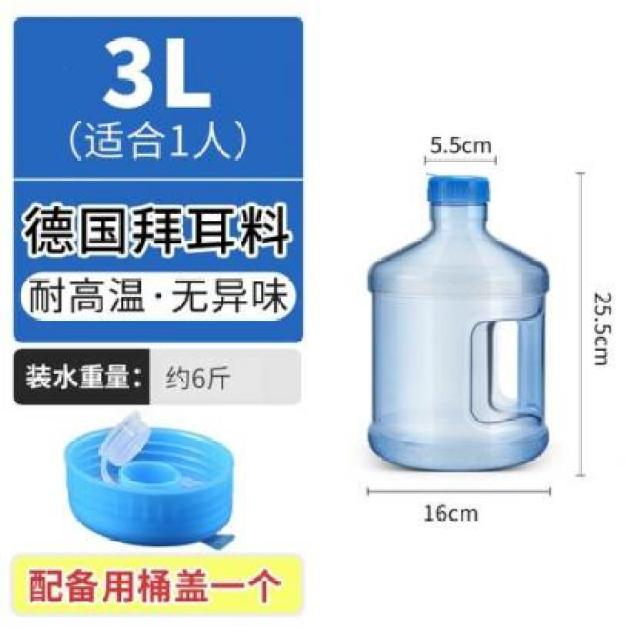coolerbottle: (358, 169, 554, 478)
